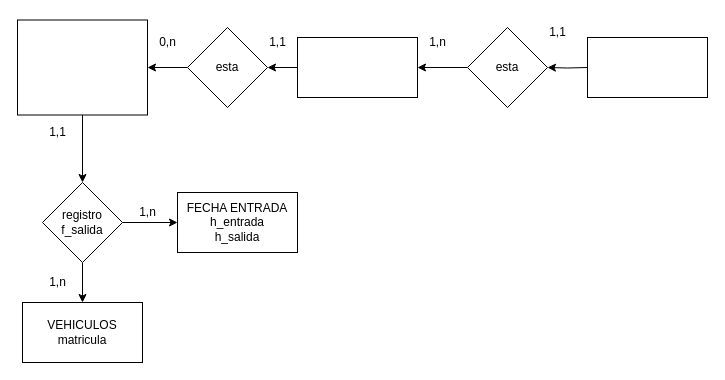
Some shapes in this 725 by 380 pixel diagram are drawn without their labels. The box of each missing label's shape, as (x1, y1, x2, y2) in pixels:
CIUDAD id nombre: (296, 36, 418, 98)
PARKING id nombre cp capacidad: (16, 19, 148, 115)
PROVINCIA id nombre: (586, 36, 708, 98)
